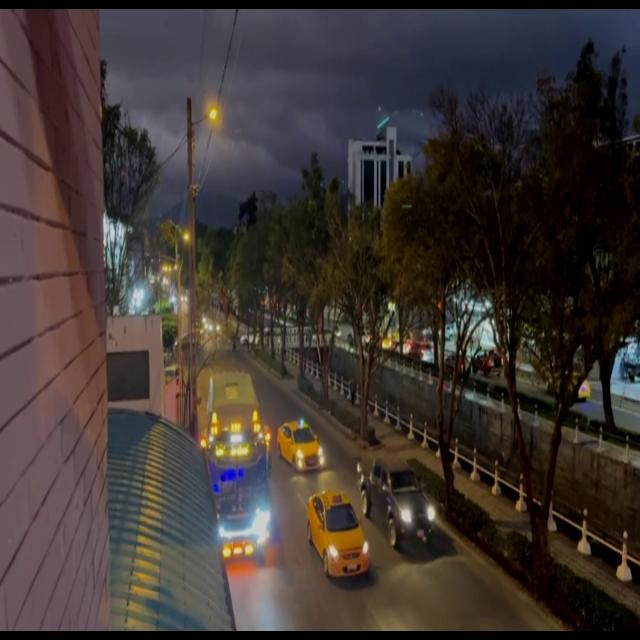CMT: (370, 458, 432, 537)
SED: (312, 498, 369, 579), (278, 425, 322, 469)
